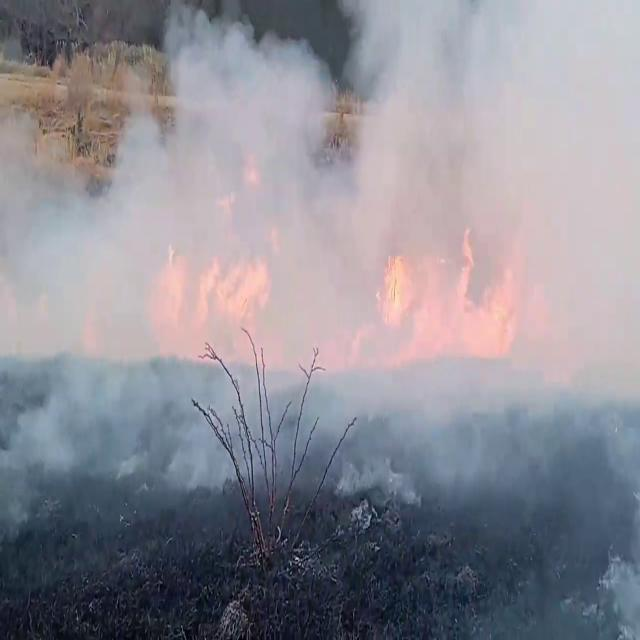Fire: (370, 222, 478, 362), (138, 235, 227, 342)
Smoke: (1, 1, 640, 467)
